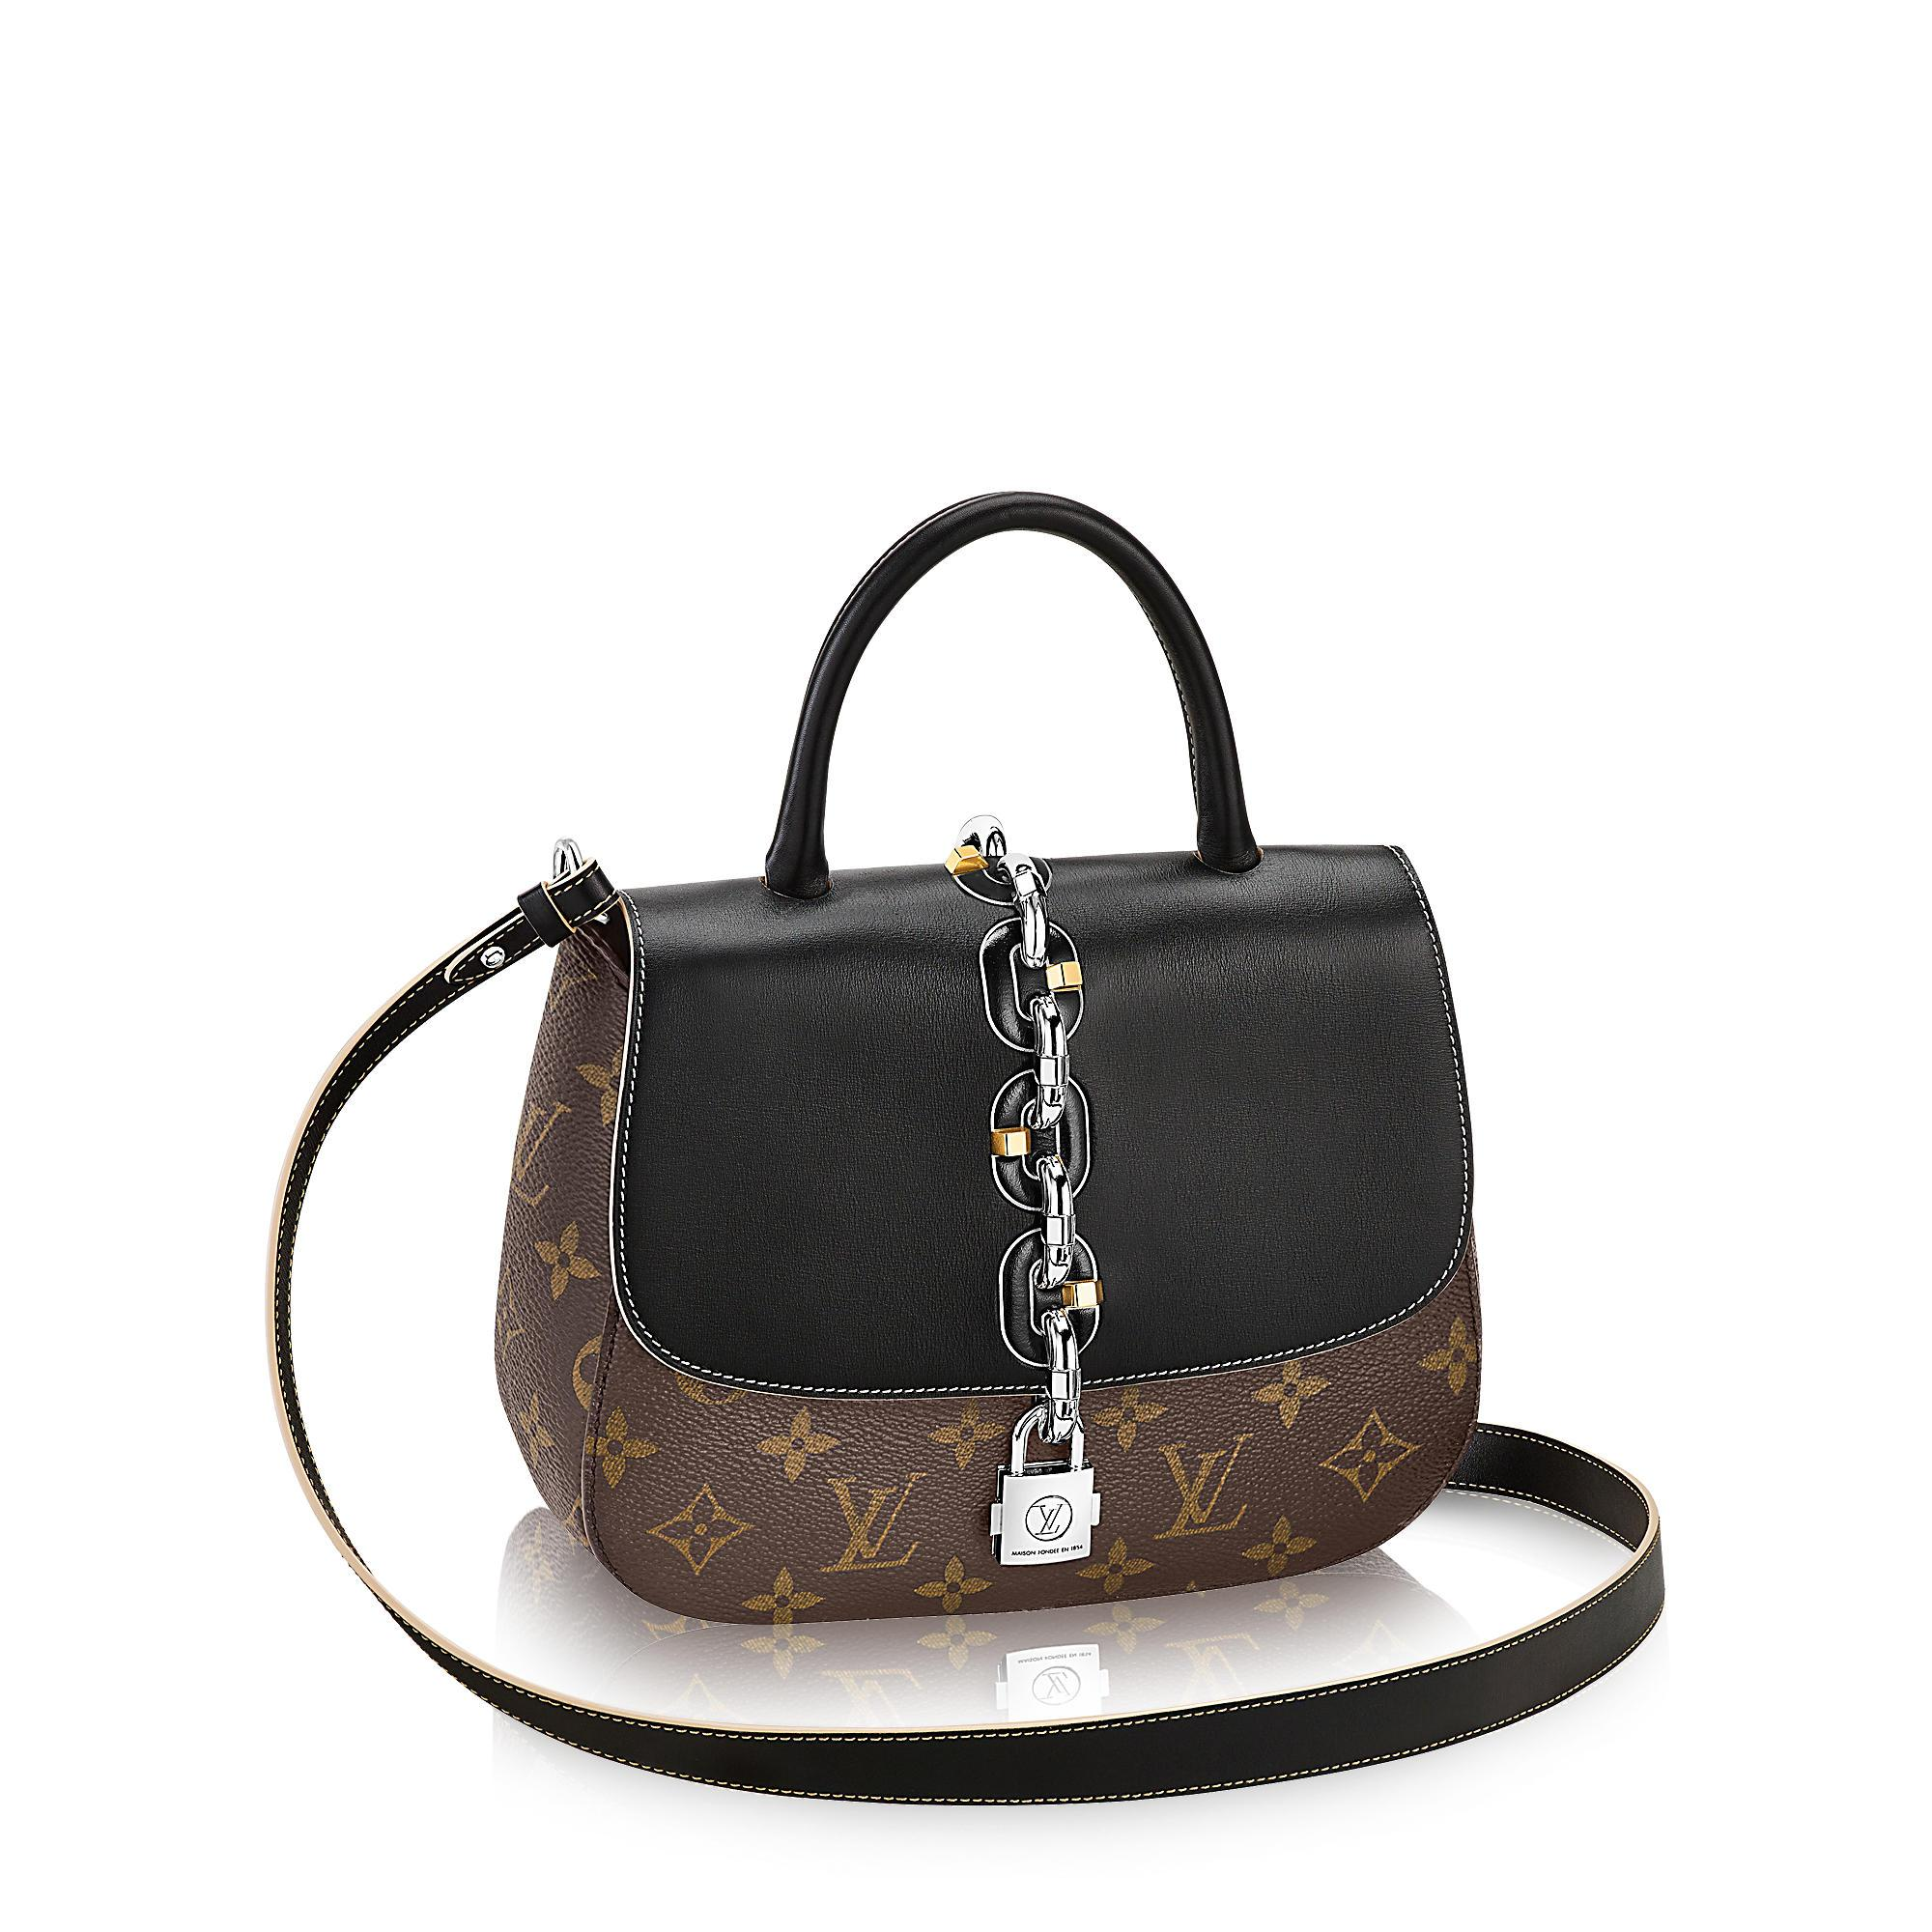LOUIS-VUITTON: (814, 1468, 931, 1580), (1148, 1428, 1260, 1543), (506, 1095, 575, 1207), (1023, 1495, 1074, 1543)
